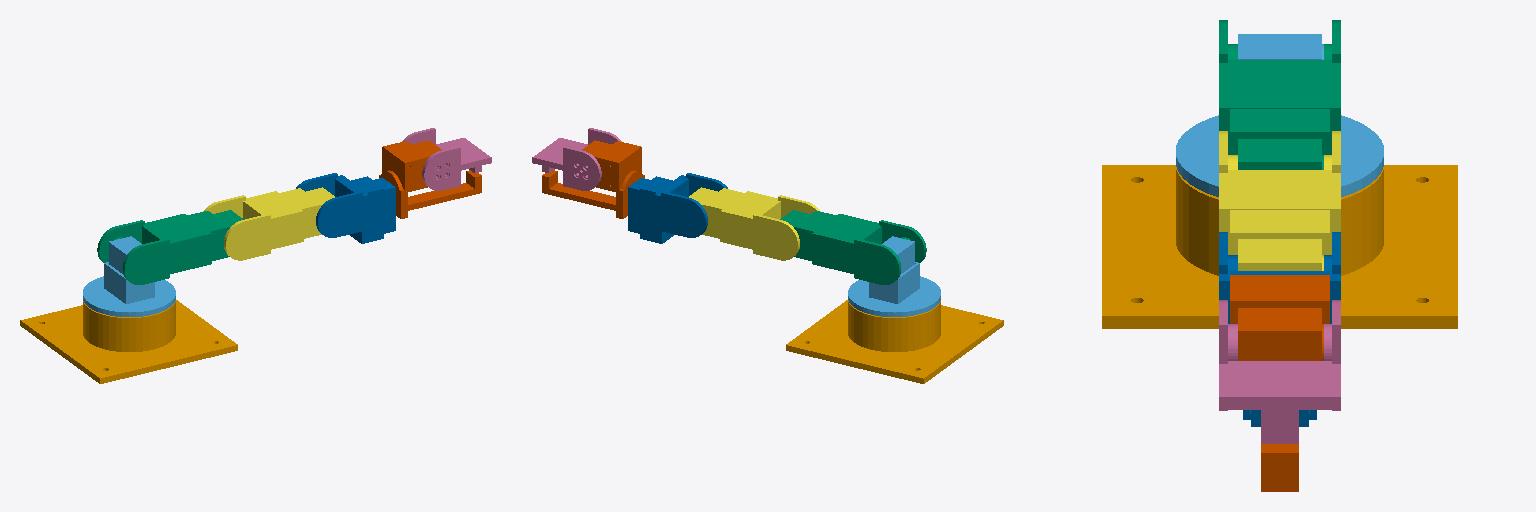
The robot description file, URDF, robot "hs_arm_a_rev_b":
<?xml version="1.0"?>
<robot name="hs_arm_a_rev_b">
  <!-- Generated by projects/hs-arm-a/build_arm.py. Masses: printed PLA at assumed density and fill plus cited servo masses. Inertia: box proxy from mesh extents. Joint limits come from motion_sweep (see verification.json). -->
  <link name="base_link">
    <inertial><origin xyz="-0.00418 0.00000 0.01292"/><mass value="0.1934"/><inertia ixx="3.916e-04" iyy="3.916e-04" izz="7.252e-04" ixy="0" ixz="0" iyz="0"/></inertial>
    <visual><geometry><mesh filename="meshes/base_link.stl" scale="0.001 0.001 0.001"/></geometry></visual>
    <collision><geometry><mesh filename="meshes/base_link.stl" scale="0.001 0.001 0.001"/></geometry></collision>
  </link>
  <link name="turntable_link">
    <inertial><origin xyz="0.00000 0.00009 0.02303"/><mass value="0.0871"/><inertia ixx="7.683e-05" iyy="7.714e-05" izz="1.121e-04" ixy="0" ixz="0" iyz="0"/></inertial>
    <visual><geometry><mesh filename="meshes/turntable_link.stl" scale="0.001 0.001 0.001"/></geometry></visual>
    <collision><geometry><mesh filename="meshes/turntable_link.stl" scale="0.001 0.001 0.001"/></geometry></collision>
  </link>
  <link name="upper_arm_link">
    <inertial><origin xyz="0.07494 0.00003 -0.00000"/><mass value="0.0950"/><inertia ixx="3.358e-05" iyy="1.682e-04" izz="1.764e-04" ixy="0" ixz="0" iyz="0"/></inertial>
    <visual><geometry><mesh filename="meshes/upper_arm_link.stl" scale="0.001 0.001 0.001"/></geometry></visual>
    <collision><geometry><mesh filename="meshes/upper_arm_link.stl" scale="0.001 0.001 0.001"/></geometry></collision>
  </link>
  <link name="forearm_link">
    <inertial><origin xyz="0.06808 0.00003 0.00000"/><mass value="0.0916"/><inertia ixx="3.238e-05" iyy="1.415e-04" izz="1.495e-04" ixy="0" ixz="0" iyz="0"/></inertial>
    <visual><geometry><mesh filename="meshes/forearm_link.stl" scale="0.001 0.001 0.001"/></geometry></visual>
    <collision><geometry><mesh filename="meshes/forearm_link.stl" scale="0.001 0.001 0.001"/></geometry></collision>
  </link>
  <link name="wrist_link">
    <inertial><origin xyz="0.04441 -0.00006 -0.00974"/><mass value="0.0840"/><inertia ixx="4.245e-05" iyy="8.443e-05" izz="7.896e-05" ixy="0" ixz="0" iyz="0"/></inertial>
    <visual><geometry><mesh filename="meshes/wrist_link.stl" scale="0.001 0.001 0.001"/></geometry></visual>
    <collision><geometry><mesh filename="meshes/wrist_link.stl" scale="0.001 0.001 0.001"/></geometry></collision>
  </link>
  <link name="gripper_link">
    <inertial><origin xyz="0.02952 0.00010 0.01630"/><mass value="0.0787"/><inertia ixx="3.340e-05" iyy="8.165e-05" izz="7.138e-05" ixy="0" ixz="0" iyz="0"/></inertial>
    <visual><geometry><mesh filename="meshes/gripper_link.stl" scale="0.001 0.001 0.001"/></geometry></visual>
    <collision><geometry><mesh filename="meshes/gripper_link.stl" scale="0.001 0.001 0.001"/></geometry></collision>
  </link>
  <link name="jaw_link">
    <inertial><origin xyz="0.01968 -0.00025 -0.00138"/><mass value="0.0191"/><inertia ixx="6.752e-06" iyy="1.102e-05" izz="1.267e-05" ixy="0" ixz="0" iyz="0"/></inertial>
    <visual><geometry><mesh filename="meshes/jaw_link.stl" scale="0.001 0.001 0.001"/></geometry></visual>
    <collision><geometry><mesh filename="meshes/jaw_link.stl" scale="0.001 0.001 0.001"/></geometry></collision>
  </link>
  <joint name="base_yaw" type="revolute"><parent link="base_link"/><child link="turntable_link"/>
    <origin xyz="0.00000 0.00000 0.04140" rpy="0 0 0"/><axis xyz="0 0 1"/>
    <limit lower="-2.61799" upper="2.61799" effort="2.942" velocity="1.0"/></joint>
  <joint name="shoulder" type="revolute"><parent link="turntable_link"/><child link="upper_arm_link"/>
    <origin xyz="0.00000 0.00000 0.04450" rpy="0 0 0"/><axis xyz="0 1 0"/>
    <limit lower="-2.61799" upper="0.26180" effort="2.942" velocity="1.0"/></joint>
  <joint name="elbow" type="revolute"><parent link="upper_arm_link"/><child link="forearm_link"/>
    <origin xyz="0.11000 0.00000 0.00000" rpy="0 0 0"/><axis xyz="0 1 0"/>
    <limit lower="-1.83260" upper="1.48353" effort="2.942" velocity="1.0"/></joint>
  <joint name="wrist_pitch" type="revolute"><parent link="forearm_link"/><child link="wrist_link"/>
    <origin xyz="0.10000 0.00000 0.00000" rpy="0 0 0"/><axis xyz="0 1 0"/>
    <limit lower="-1.83260" upper="1.83260" effort="2.942" velocity="1.0"/></joint>
  <joint name="wrist_roll" type="revolute"><parent link="wrist_link"/><child link="gripper_link"/>
    <origin xyz="0.07200 0.00000 0.00000" rpy="0 0 0"/><axis xyz="1 0 0"/>
    <limit lower="-2.61799" upper="2.61799" effort="2.942" velocity="1.0"/></joint>
  <joint name="gripper" type="revolute"><parent link="gripper_link"/><child link="jaw_link"/>
    <origin xyz="0.04350 0.00000 0.02200" rpy="0 0 0"/><axis xyz="0 -1 0"/>
    <limit lower="0.00000" upper="1.22173" effort="2.942" velocity="1.0"/></joint>
</robot>

--- What the picture shows (computed from the rendered views, not written in the file) ---
The picture shows the robot from 3 angles, left to right: view 1: azimuth 30°, elevation 25°; view 2: azimuth 150°, elevation 25°; view 3: azimuth 270°, elevation 25°; orthographic projection.
Robot: hs_arm_a_rev_b — 7 links, 6 joints (6 revolute); root link base_link; default pose: every joint at zero.
Visible links, largest first — view 1: base_link, upper_arm_link, forearm_link, wrist_link, turntable_link, gripper_link, jaw_link; view 2: base_link, upper_arm_link, forearm_link, wrist_link, turntable_link, gripper_link, jaw_link; view 3: base_link, upper_arm_link, forearm_link, gripper_link, jaw_link, turntable_link, wrist_link.
Boxes of the visible links, x1,y1,x2,y2 form: base_link: (20,300,237,383); upper_arm_link: (97,210,243,284); forearm_link: (203,187,334,260); wrist_link: (296,173,395,243); turntable_link: (83,236,175,316); gripper_link: (379,140,481,218); jaw_link: (402,128,491,190); base_link: (786,300,1003,383); upper_arm_link: (780,210,926,284); forearm_link: (689,187,820,260); wrist_link: (628,173,727,243); turntable_link: (848,236,940,316); gripper_link: (542,140,644,218); jaw_link: (532,128,621,190); base_link: (1102,165,1457,328); upper_arm_link: (1219,20,1340,169); forearm_link: (1219,131,1340,270); gripper_link: (1230,275,1329,491); jaw_link: (1219,300,1340,443); turntable_link: (1176,34,1383,196); wrist_link: (1219,232,1340,426).
Size in the robot's own frame: 0.4535 by 0.15 by 0.1279 metres.
7 mesh visuals loaded from 7 distinct referenced files (7 binary STL).
